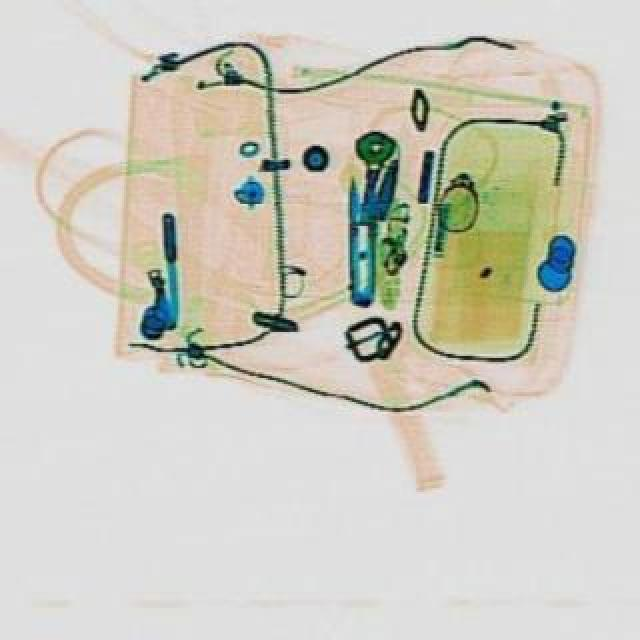pliers: (342, 170, 374, 306)
